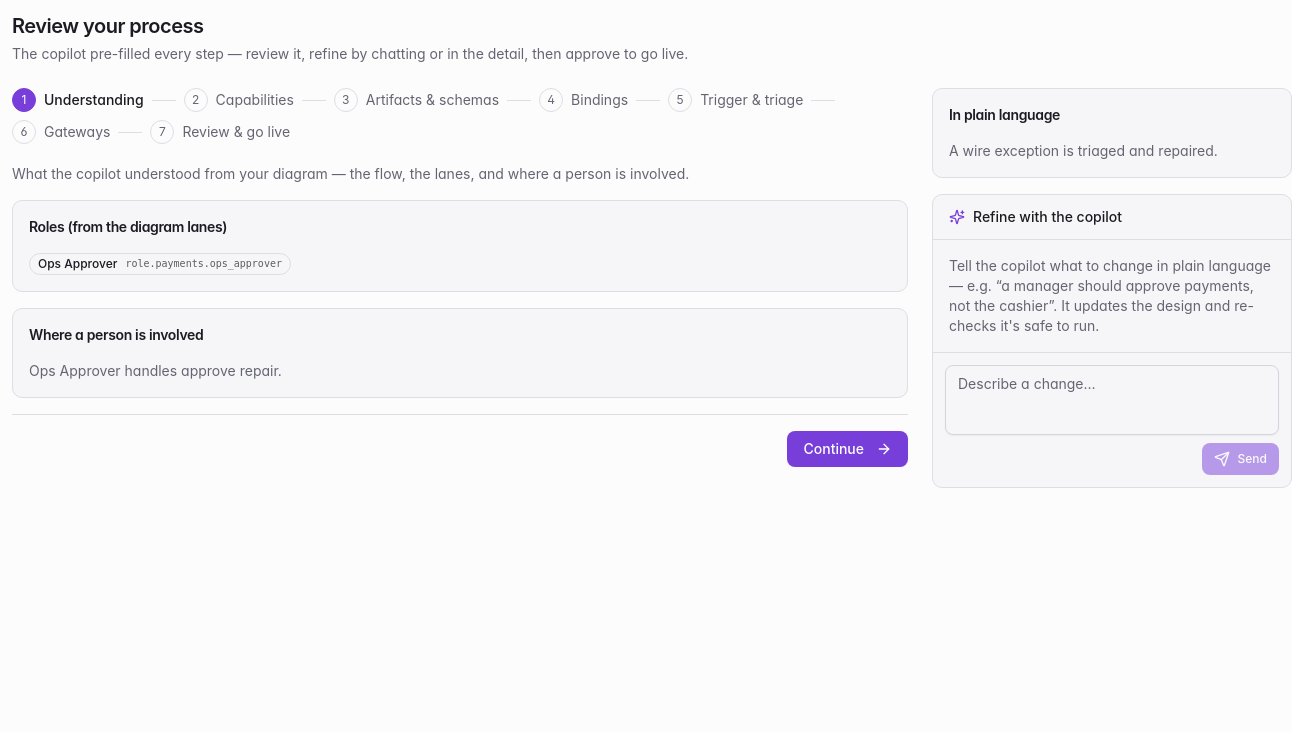
it: Copilot flow — stepped review + schema refiner (ADR-054) › the Capabilities step is read-mostly — the connected endpoint + staged caps show, with no second MCP URL entry
The width and height of the screenshot is (1292, 732).
Click the button "2 Capabilities": (239, 100) [184,88,294,112]
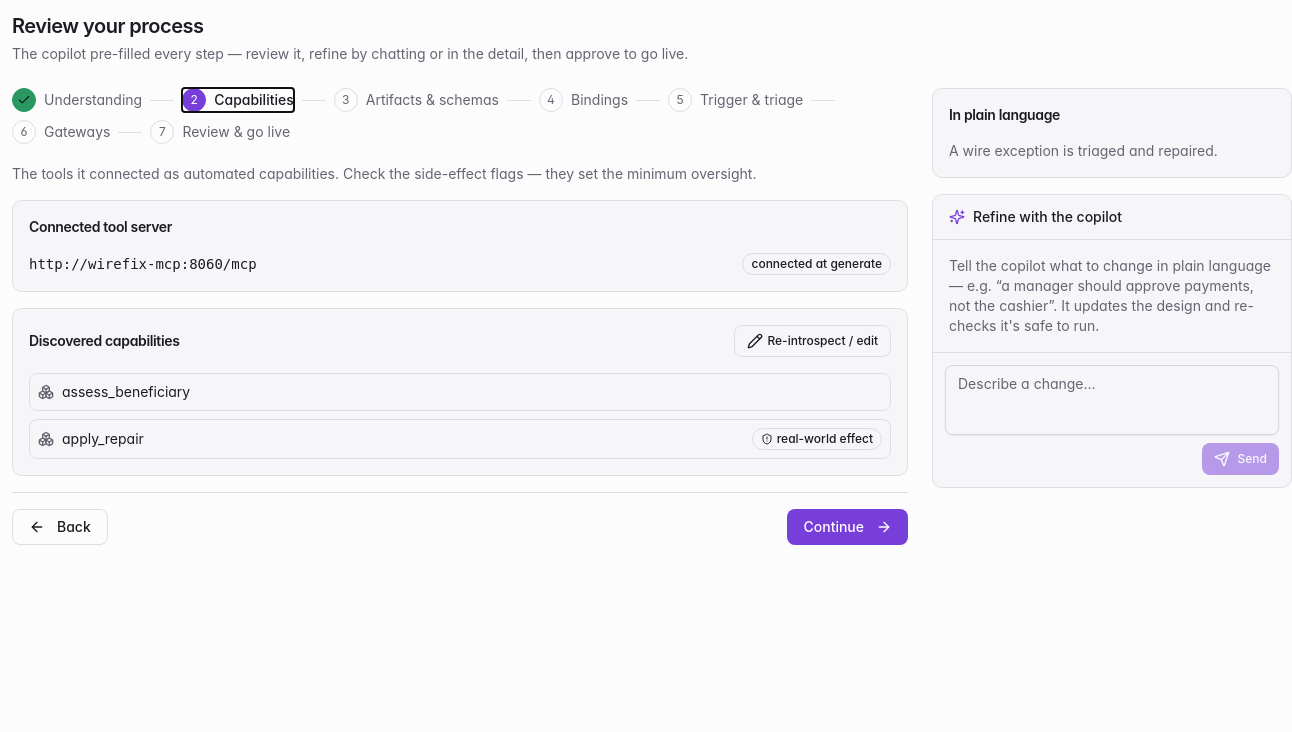
Expected: the text "http://wirefix-mcp:8060/mcp" is shown, [29,254,257,274]
Expected: the text "assess_beneficiary" is shown, [62,383,190,400]
Expected: the text "apply_repair" is shown, [62,430,144,447]
